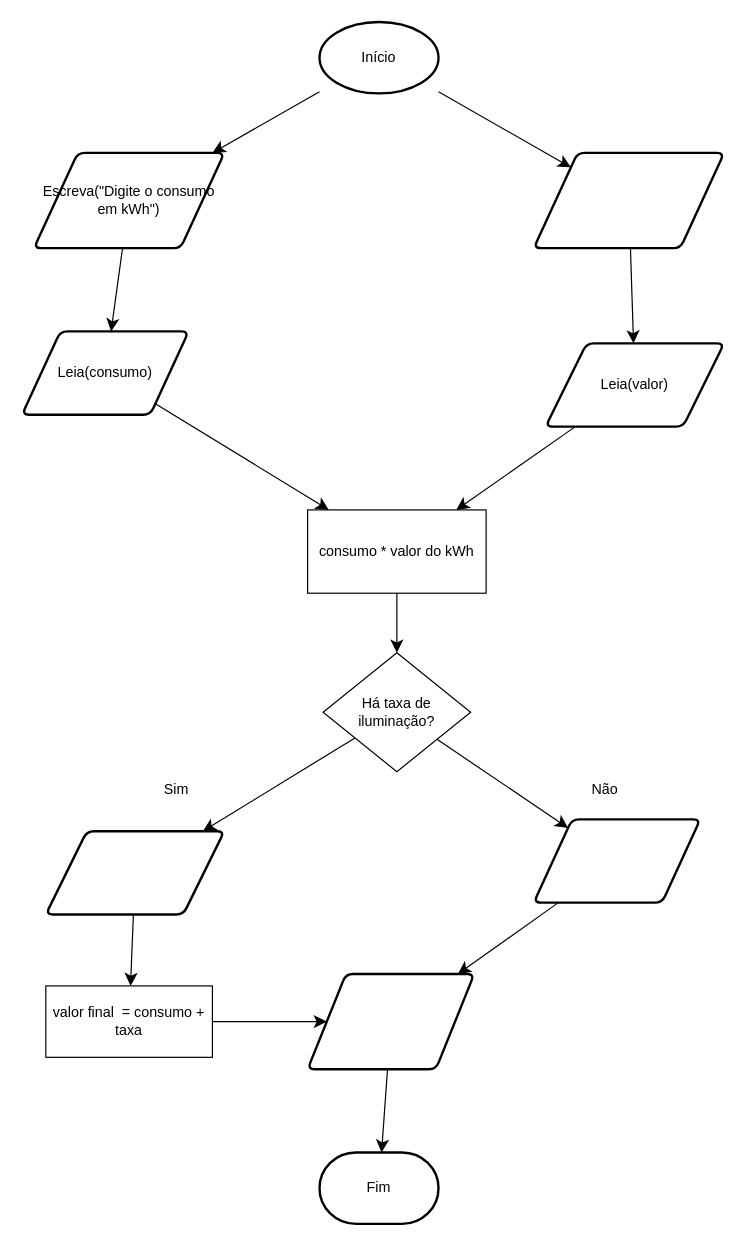
Image size: 745x1245. Some labels were removed from this diagram. Each missing label, with the centre of its shape:
Escreva("Digite o valor da taxa"): point (134, 872)
Escreva("Digite o valor de kWh"): point (628, 200)
Escreva("Mostrar valor fiinal"): point (390, 1021)
Taxa = 0: point (616, 860)
